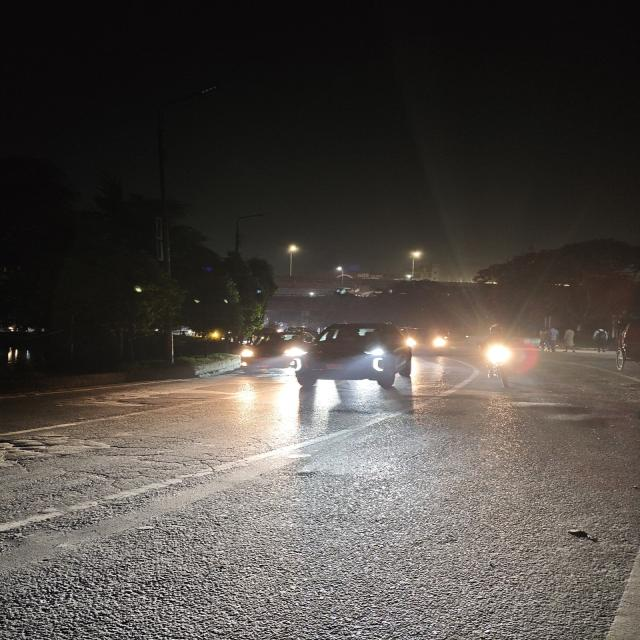car: (292, 322, 416, 402), (231, 318, 306, 384), (403, 322, 450, 358)
motorcycle: (476, 322, 517, 390)
pedestrian: (590, 325, 612, 356), (536, 322, 551, 361), (563, 324, 579, 356), (547, 325, 558, 359)
